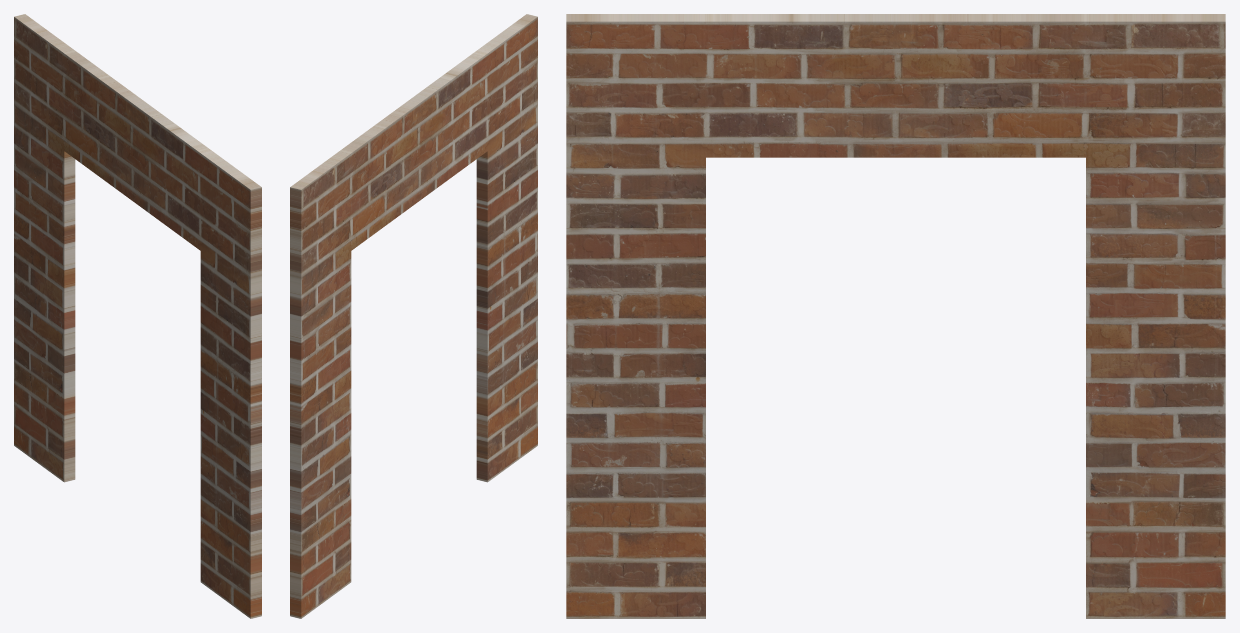
The model's file is door.obj.
3 renders of one model, left to right at view 1: azimuth 30°, elevation 25°; view 2: azimuth 150°, elevation 25°; view 3: azimuth 270°, elevation 25°, orthographic. The views are drawn at different scales.
Visible parts, largest first — view 1: pPlane1; view 2: pPlane1; view 3: pPlane1.
Boxes of the visible parts, x1,y1,x2,y2 form: pPlane1: [14, 14, 261, 618]; pPlane1: [290, 14, 537, 618]; pPlane1: [566, 14, 1225, 618].
Size of the model in its own units: 0.0542 by 2 by 2.
Materials: 1 (1 with a texture image).
